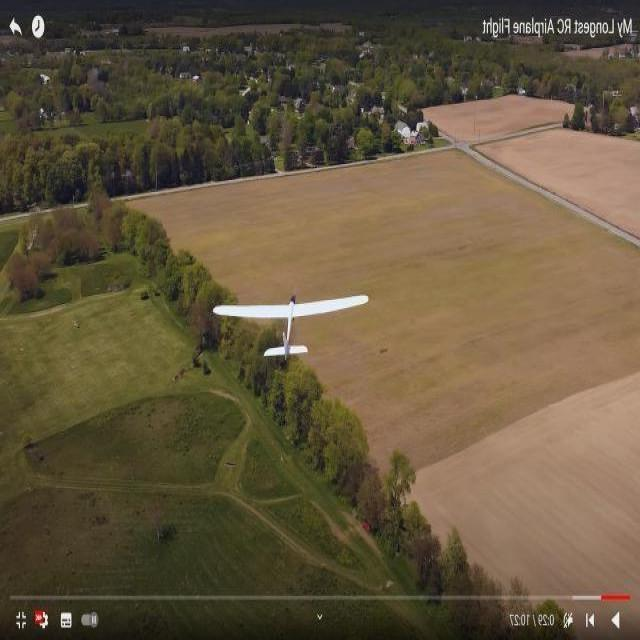Airplane: (208, 284, 374, 361)
